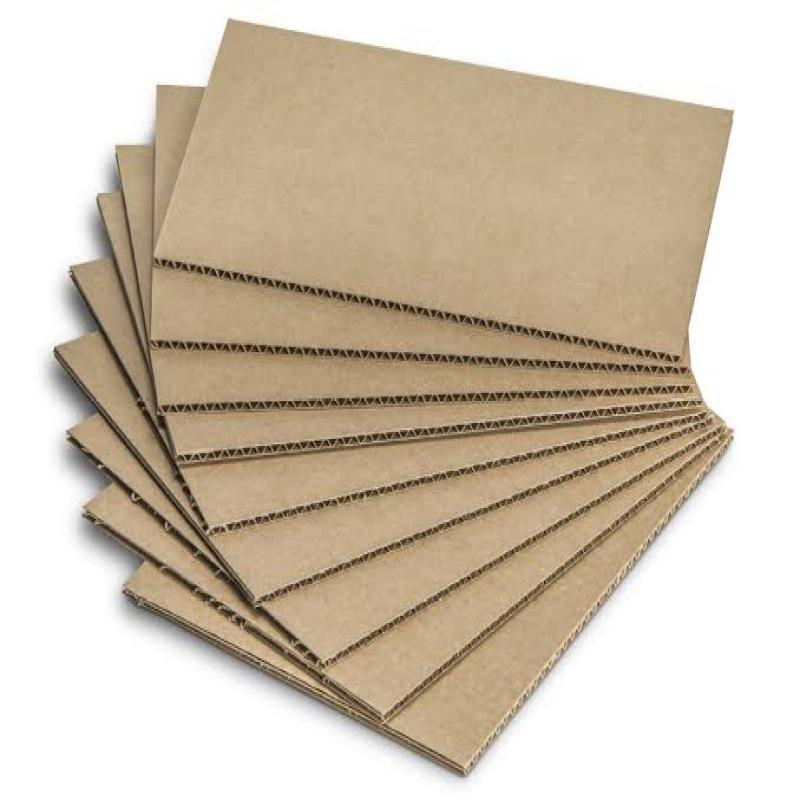cardboard: (125, 441, 732, 773), (152, 18, 730, 363), (323, 434, 714, 715), (208, 414, 712, 600), (178, 411, 709, 531), (147, 264, 636, 370), (83, 483, 323, 676), (66, 414, 249, 598), (152, 349, 694, 409), (165, 398, 704, 457), (54, 333, 206, 538), (70, 260, 153, 418), (96, 191, 152, 389), (152, 82, 209, 259), (118, 145, 155, 326)
